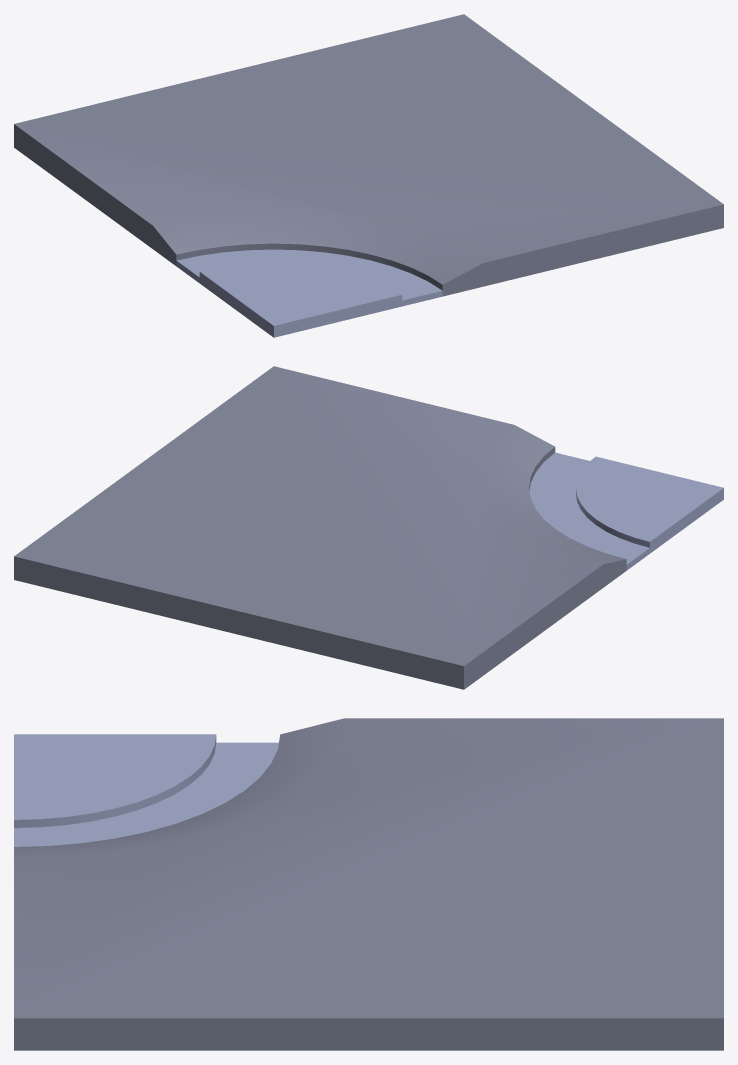
The model's file is road-corner-inner.glb.
The picture shows the model from 3 angles, top to bottom: view 1: azimuth 30°, elevation 25°; view 2: azimuth 150°, elevation 25°; view 3: azimuth 270°, elevation 25°; orthographic projection. The views are drawn at different scales.
Parts seen in each view (by area): view 1: road-corner-inner; view 2: road-corner-inner; view 3: road-corner-inner.
Part boxes in pixels (x1,y1,x2,y2): road-corner-inner: (14,14,723,337); road-corner-inner: (14,366,723,689); road-corner-inner: (14,718,723,1050).
Bounding box in the file's own units: 1 × 0.0501 × 1.
1 material, 1 textured.
